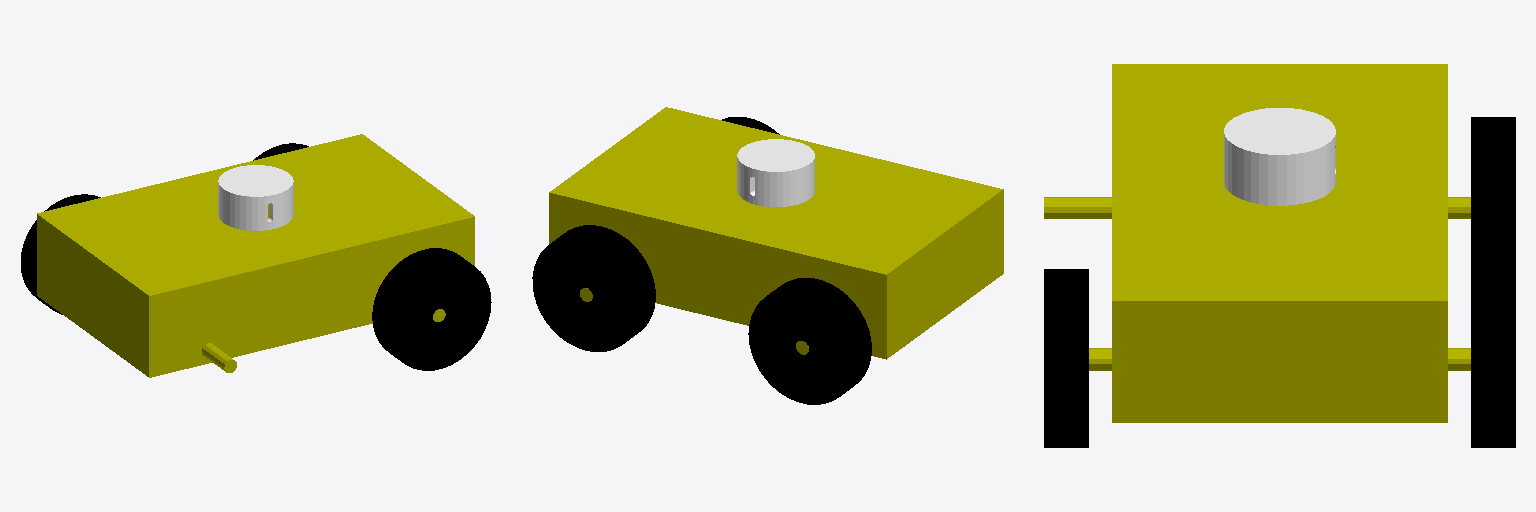
URDF robot description (Assem1_urdf):
<?xml version="1.0" encoding="utf-8"?>
<!-- This URDF was automatically created by SolidWorks to URDF Exporter! Originally created by Stephen Brawner (brawner@gmail.com) 
     Commit Version: 1.6.0-4-g7f85cfe  Build Version: 1.6.7995.38578
     For more information, please see http://wiki.ros.org/sw_urdf_exporter -->
<robot
  name="Assem1_urdf">
  
  <link name="base_footprint">
    <visual>
      <origin xyz="0 0 0" rpy="0 0 0" />
      <geometry>
        <box size="0.001 0.001 0.001" />
      </geometry>
    </visual>
  </link>

  <joint name="base_footprint_joint" type="fixed">
    <origin xyz="0.125 -0.075 0.0" rpy="0 0 0" />
    <parent link="base_footprint" />
    <child link="base_link" />
  </joint>

  <link
    name="base_link">
    <inertial>
      <origin
        xyz="-0.125 0.0303575371086402 -0.075"
        rpy="0 0 0" />
      <mass
        value="2.28455751918949" />
      <inertia
        ixx="0.00501789775265762"
        ixy="4.47264437458017E-20"
        ixz="-2.46499822540802E-19"
        iyy="0.0160799515918862"
        iyz="-4.04979321494301E-20"
        izz="0.0125012276766395" />
    </inertial>
    <visual>
      <origin
        xyz="0 0 0"
        rpy="0 0 0" />
      <geometry>
        <mesh
          filename="package://my_amr_cpp/meshes/base_link.STL" />
      </geometry>
      <material
        name="">
        <color
          rgba="0.752941176470588 0.752941176470588 0 1" />
      </material>
    </visual>
    <collision>
      <origin
        xyz="0 0 0"
        rpy="0 0 0" />
      <geometry>
        <mesh
          filename="package://my_amr_cpp/meshes/base_link.STL" />
      </geometry>
    </collision>
  </link>
  
  <link
    name="Wheel_link1">
    <inertial>
      <origin
        xyz="5.5511E-17 0.00050996 0.01"
        rpy="0 0 0" />
      <mass
        value="0.09896" />
      <inertia
        ixx="4.3501E-05"
        ixy="-2.7784E-24"
        ixz="4.0192E-37"
        iyy="4.3501E-05"
        iyz="1.1197E-25"
        izz="8.0405E-05" />
    </inertial>
    <visual>
      <origin
        xyz="0 0 0"
        rpy="0 0 0" />
      <geometry>
        <mesh
          filename="package://my_amr_cpp/meshes/Wheel_link1.STL" />
      </geometry>
      <material
        name="">
        <color
          rgba="0 0 0 1" />
      </material>
    </visual>
    <collision>
      <origin
        xyz="0 0 0"
        rpy="0 0 0" />
      <geometry>
        <mesh
          filename="package://my_amr_cpp/meshes/Wheel_link1.STL" />
      </geometry>
    </collision>
  </link>
  <joint
    name="Wheel_joint1"
    type="continuous">
    <origin
      xyz="-0.205 -0.01 0.01"
      rpy="1.5708 0 0" />
    <parent
      link="base_link" />
    <child
      link="Wheel_link1" />
    <axis
      xyz="0 0 1" />
  </joint>
  <link
    name="Wheel_link2">
    <inertial>
      <origin
        xyz="7.6328E-17 0.00050996 0.01"
        rpy="0 0 0" />
      <mass
        value="0.09896" />
      <inertia
        ixx="4.3501E-05"
        ixy="-2.7784E-24"
        ixz="4.0527E-37"
        iyy="4.3501E-05"
        iyz="1.3918E-25"
        izz="8.0405E-05" />
    </inertial>
    <visual>
      <origin
        xyz="0 0 0"
        rpy="0 0 0" />
      <geometry>
        <mesh
          filename="package://my_amr_cpp/meshes/Wheel_link2.STL" />
      </geometry>
      <material
        name="">
        <color
          rgba="0 0 0 1" />
      </material>
    </visual>
    <collision>
      <origin
        xyz="0 0 0"
        rpy="0 0 0" />
      <geometry>
        <mesh
          filename="package://my_amr_cpp/meshes/Wheel_link2.STL" />
      </geometry>
    </collision>
  </link>
  <joint
    name="Wheel_joint2"
    type="continuous">
    <origin
      xyz="-0.045 -0.01 0.01"
      rpy="1.5708 0 0" />
    <parent
      link="base_link" />
    <child
      link="Wheel_link2" />
    <axis
      xyz="0 0 1" />
  </joint>
  <link
    name="Wheel_link3">
    <inertial>
      <origin
        xyz="1.8041E-16 0.00050996 -0.01"
        rpy="0 0 0" />
      <mass
        value="0.09896" />
      <inertia
        ixx="4.3501E-05"
        ixy="1.6941E-21"
        ixz="-2.4564E-23"
        iyy="4.3501E-05"
        iyz="6.956E-23"
        izz="8.0405E-05" />
    </inertial>
    <visual>
      <origin
        xyz="0 0 0"
        rpy="0 0 0" />
      <geometry>
        <mesh
          filename="package://my_amr_cpp/meshes/Wheel_link3.STL" />
      </geometry>
      <material
        name="">
        <color
          rgba="0 0 0 1" />
      </material>
    </visual>
    <collision>
      <origin
        xyz="0 0 0"
        rpy="0 0 0" />
      <geometry>
        <mesh
          filename="package://my_amr_cpp/meshes/Wheel_link3.STL" />
      </geometry>
    </collision>
  </link>
  <joint
    name="Wheel_joint3"
    type="continuous">
    <origin
      xyz="-0.045 0.16 0.01"
      rpy="1.5708 0.098871 0" />
    <parent
      link="base_link" />
    <child
      link="Wheel_link3" />
    <axis
      xyz="0 0 1" />
  </joint>
  <link
    name="Wheel_link4">
    <inertial>
      <origin
        xyz="5.5511E-17 0.00050996 -0.01"
        rpy="0 0 0" />
      <mass
        value="0.09896" />
      <inertia
        ixx="4.3501E-05"
        ixy="-2.7784E-24"
        ixz="5.7351E-22"
        iyy="4.3501E-05"
        iyz="1.2861E-24"
        izz="8.0405E-05" />
    </inertial>
    <visual>
      <origin
        xyz="0 0 0"
        rpy="0 0 0" />
      <geometry>
        <mesh
          filename="package://my_amr_cpp/meshes/Wheel_link4.STL" />
      </geometry>
      <material
        name="">
        <color
          rgba="0 0 0 1" />
      </material>
    </visual>
    <collision>
      <origin
        xyz="0 0 0"
        rpy="0 0 0" />
      <geometry>
        <mesh
          filename="package://my_amr_cpp/meshes/Wheel_link4.STL" />
      </geometry>
    </collision>
  </link>
  <joint
    name="Wheel_joint4"
    type="continuous">
    <origin
      xyz="-0.205 0.16 0.01"
      rpy="1.5708 0 0" />
    <parent
      link="base_link" />
    <child
      link="Wheel_link4" />
    <axis
      xyz="0 0 1" />
  </joint>
  <link
    name="Lidar_link">
    <inertial>
      <origin
        xyz="0 0 0"
        rpy="0 0 0" />
      <mass
        value="0.09896" />
      <inertia
        ixx="4.3501E-05"
        ixy="1.6941E-21"
        ixz="-2.4564E-23"
        iyy="4.3501E-05"
        iyz="6.956E-23"
        izz="8.0405E-05"  />
    </inertial>
    <visual>
      <origin
        xyz="0 0 0"
        rpy="0 0 0" />
      <geometry>
        <mesh
          filename="package://my_amr_cpp/meshes/Lidar_link.STL" />
      </geometry>
      <material
        name="">
        <color
          rgba="1 1 1 1" />
      </material>
    </visual>
    <collision>
      <origin
        xyz="0 0 0"
        rpy="0 0 0" />
      <geometry>
        <mesh
          filename="package://my_amr_cpp/meshes/Lidar_link.STL" />
      </geometry>
    </collision>
  </link>
  <joint
    name="Lidar_joint"
    type="continuous">
    <origin
      xyz="-0.125 0.075 0.06"
      rpy="1.5708 0 -0.12751" />
    <parent
      link="base_link" />
    <child
      link="Lidar_link" />
    <axis
      xyz="0 1 0" />
  </joint>
</robot>

--- Render facts (derived) ---
Views: 3 orthographic renders of the robot side by side, from view 1: azimuth 30°, elevation 25°; view 2: azimuth 150°, elevation 25°; view 3: azimuth 270°, elevation 25°.
Model Assem1_urdf with 7 links and 6 joints (5 continuous, 1 fixed), rooted at base_footprint, posed every joint at zero.
Links seen in each view (by area): view 1: base_link, Wheel_link2, Lidar_link, Wheel_link4; view 2: base_link, Wheel_link4, Wheel_link3, Lidar_link; view 3: base_link, Lidar_link, Wheel_link2, Wheel_link3, Wheel_link4.
Boxes of the visible links, x1,y1,x2,y2 form: base_link: (37,134,474,377); Wheel_link2: (372,248,491,370); Lidar_link: (218,165,293,230); Wheel_link4: (21,194,100,314); base_link: (549,107,1003,359); Wheel_link4: (748,278,871,404); Wheel_link3: (532,225,655,351); Lidar_link: (737,139,814,206); base_link: (1044,64,1470,422); Lidar_link: (1224,108,1335,205); Wheel_link2: (1044,269,1088,447); Wheel_link3: (1471,269,1515,447); Wheel_link4: (1471,117,1515,268).
Bounding box of the posed robot: 0.25 × 0.21 × 0.1145 m (x, y, z).
5 mesh visuals loaded from 6 distinct referenced files (5 binary STL); not drawn: 1 (reference not matched to a file when rendering).
